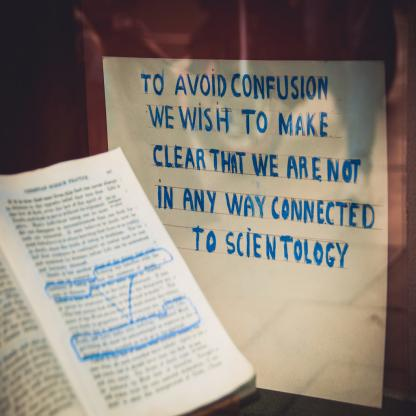book: (0, 143, 258, 415)
